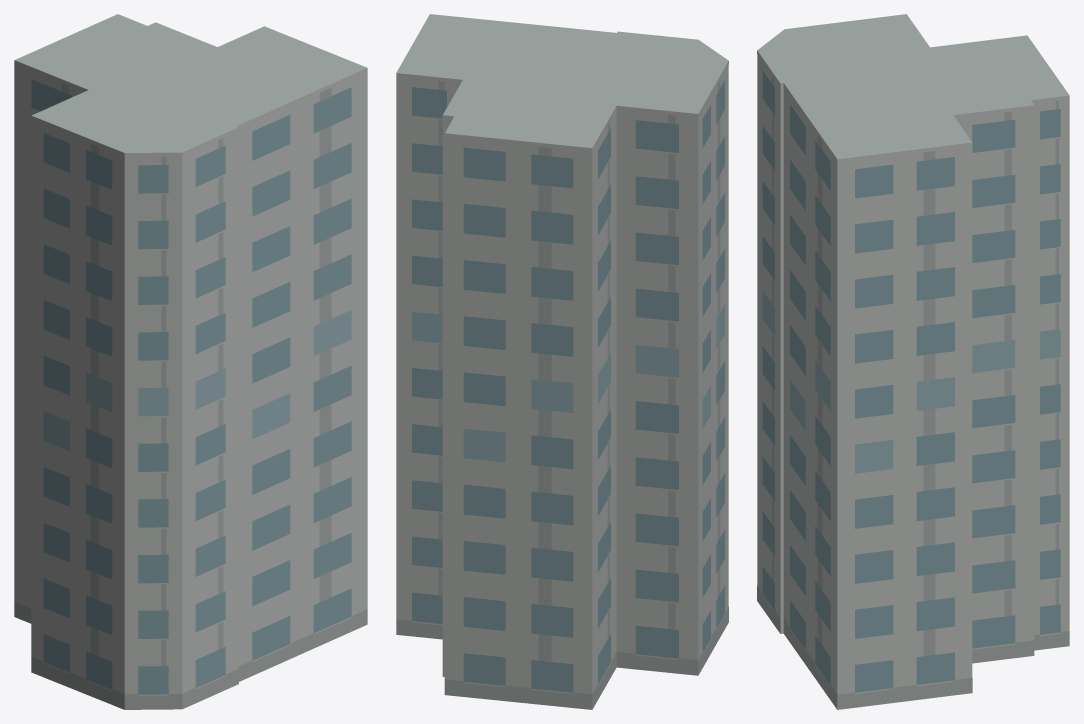
File: survey-upis-33023993.glb
3 views of the same model, side by side, from view 1: azimuth 30°, elevation 25°; view 2: azimuth 150°, elevation 25°; view 3: azimuth 270°, elevation 25° (orthographic). The views are drawn at different scales.
Parts seen in each view (by area): view 1: survey-upis-33023993.tmp; view 2: survey-upis-33023993.tmp; view 3: survey-upis-33023993.tmp.
Part boxes in pixels (x1,y1,x2,y2): survey-upis-33023993.tmp: (14,14,367,709); survey-upis-33023993.tmp: (396,14,728,709); survey-upis-33023993.tmp: (757,14,1069,709).
Bounding box in the file's own units: 19.93 × 35.2 × 18.12.
